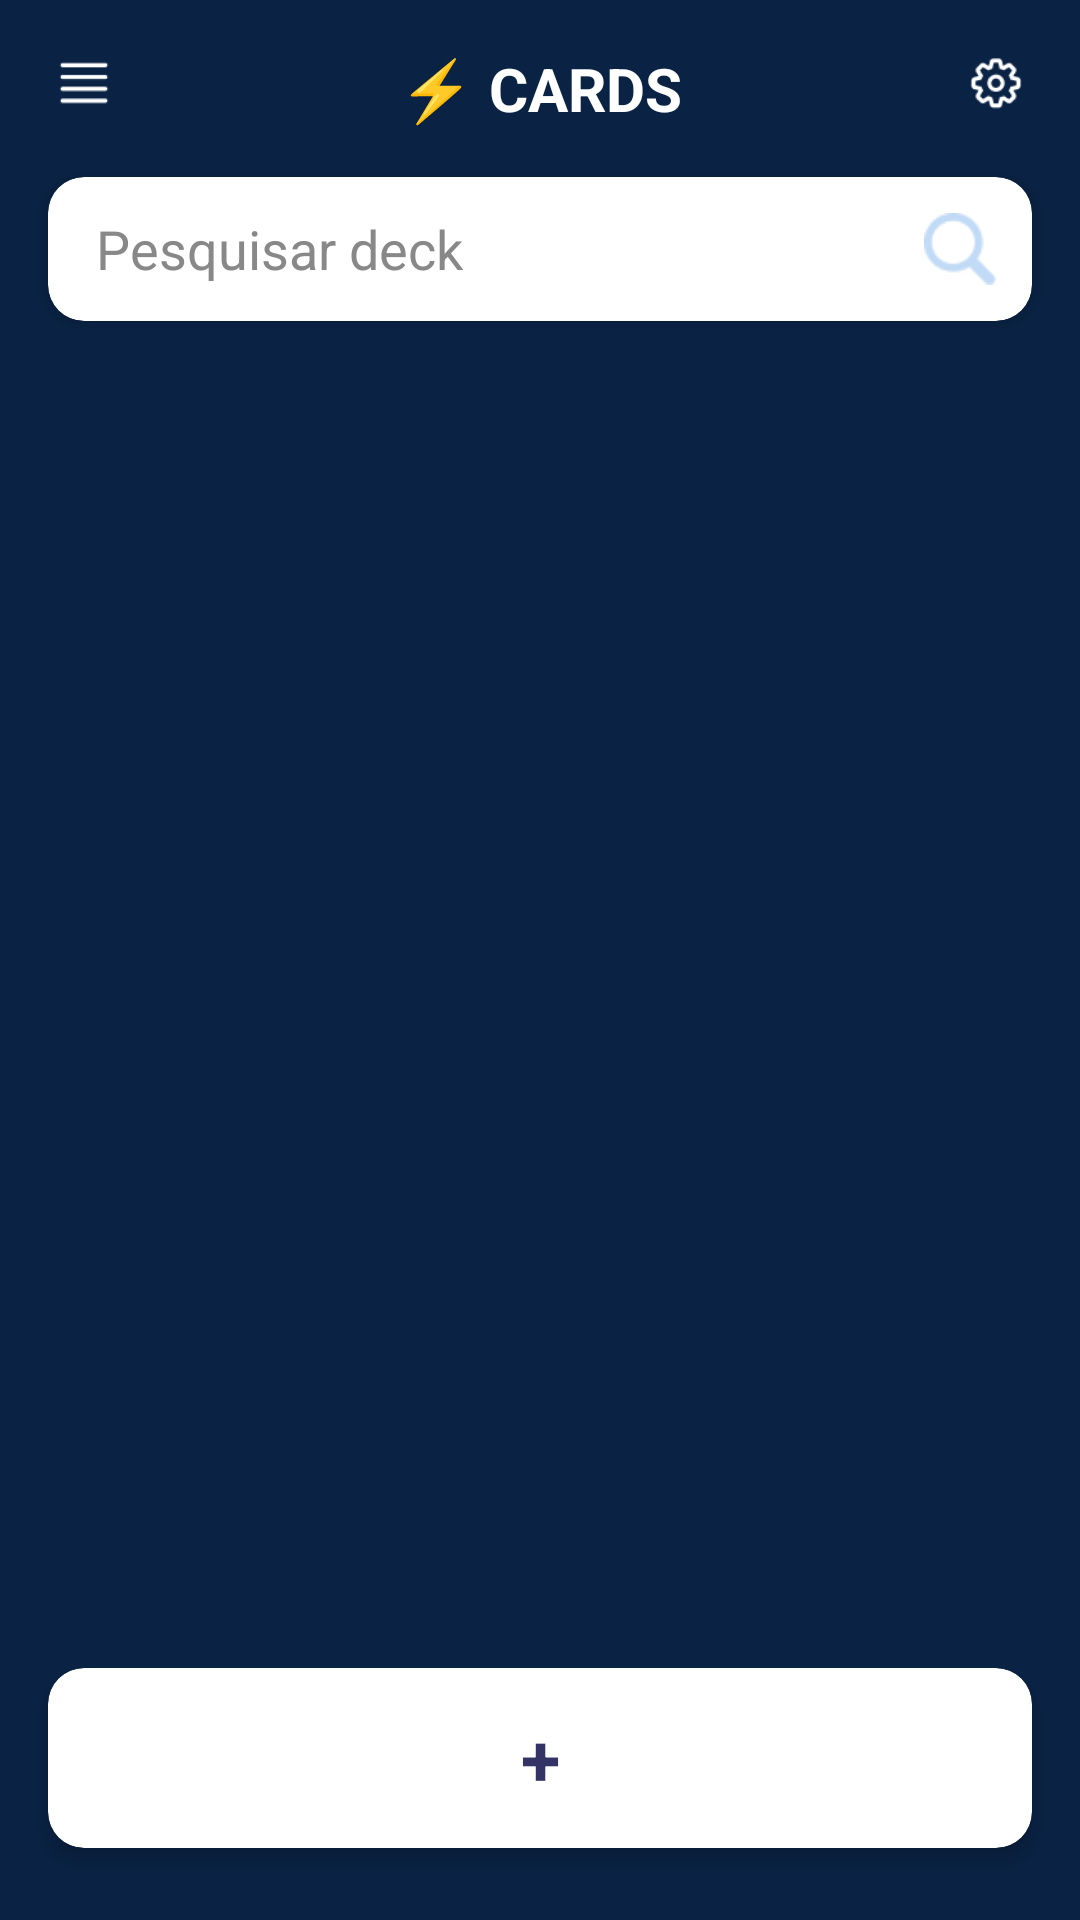

Where to tap for icons on this 1080w x 1920h app screen, as (x,y):
menu: (84,83)
search: (960,249)
setting: (996,83)
